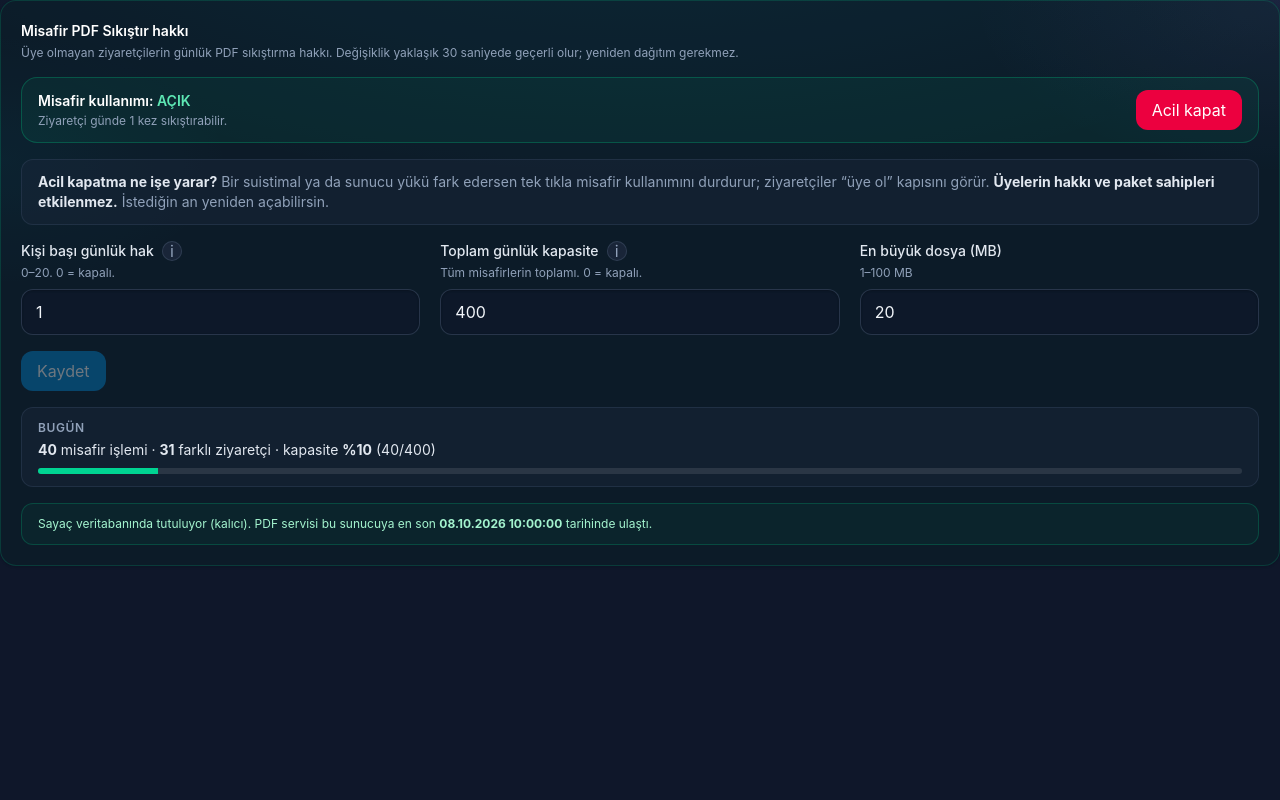
Test: GuestCompressSettings — yönetim paneli › acil kapat tek tıkla yalnız ana anahtarı kapatır ve durumu KAPALI yapar
Click the button "Acil kapat" at point(1189, 110), box 1136,90 -> 1242,130
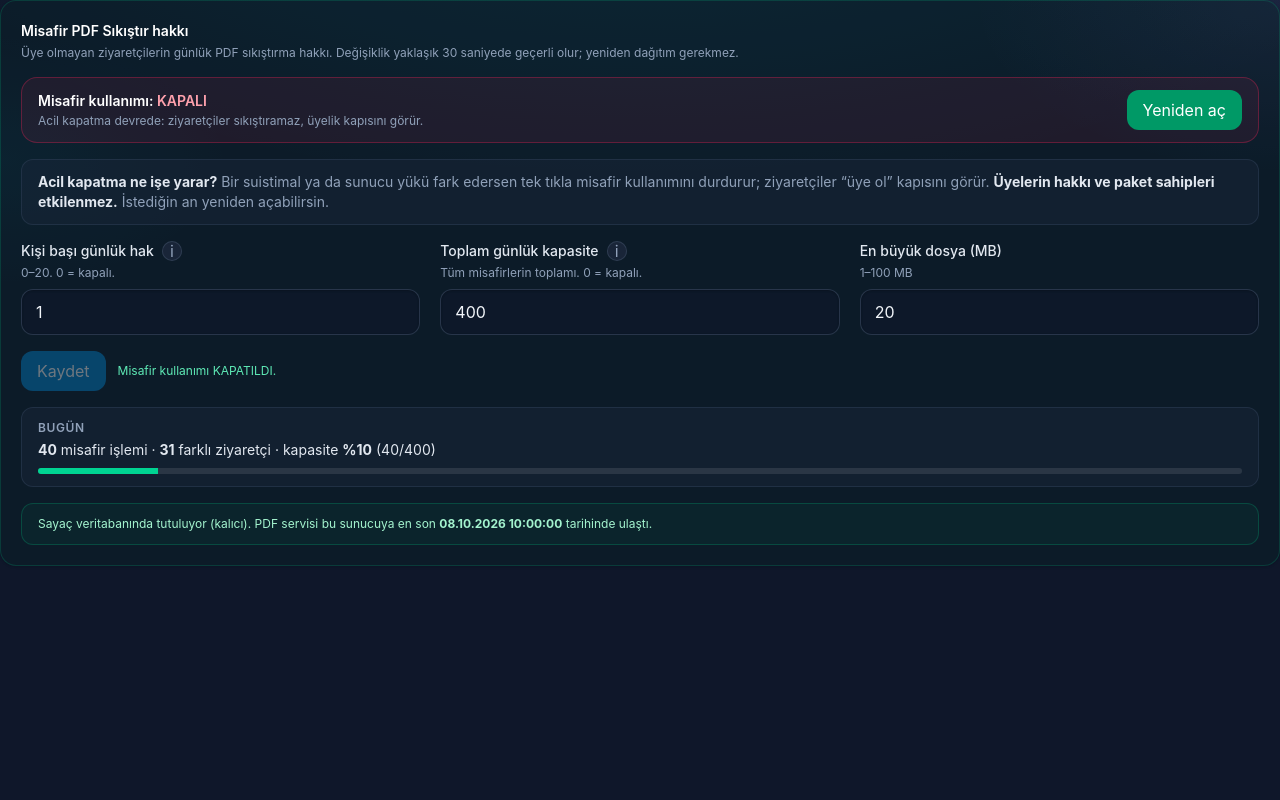
Expected: the text "KAPALI" is shown, 157,92 -> 207,109
Expected: the button "Yeniden aç" is shown, 1126,90 -> 1242,130
Expected: the text "Misafir kullanımı KAPATILDI." is shown, 118,363 -> 276,379
